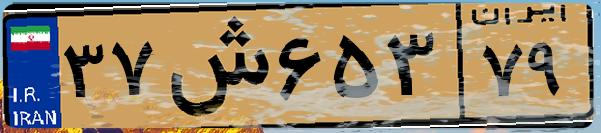3: (385, 28, 445, 110), (57, 26, 110, 100)
5: (330, 28, 385, 110)
6: (270, 28, 330, 110)
7: (475, 38, 525, 113), (110, 28, 158, 98)
9: (525, 38, 570, 115)
ش: (158, 12, 270, 120)
